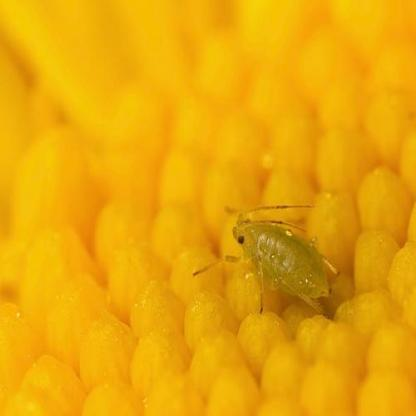aphid: (203, 195, 339, 320)
